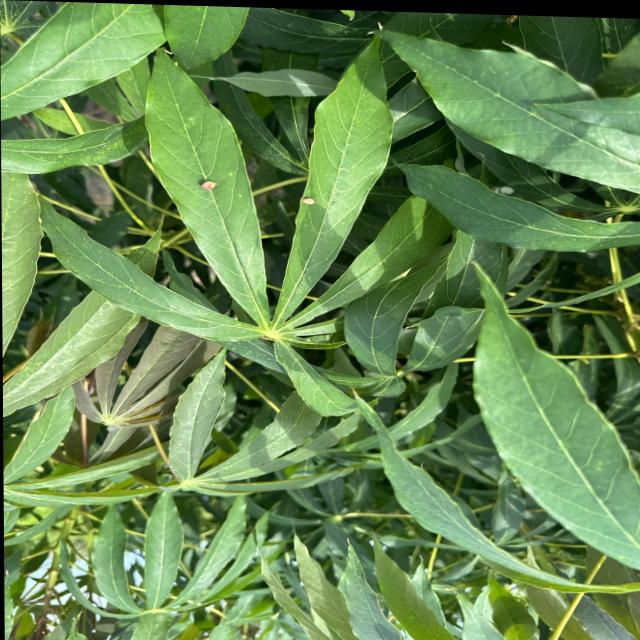Mosca: (190, 163, 240, 205), (285, 188, 334, 220)
